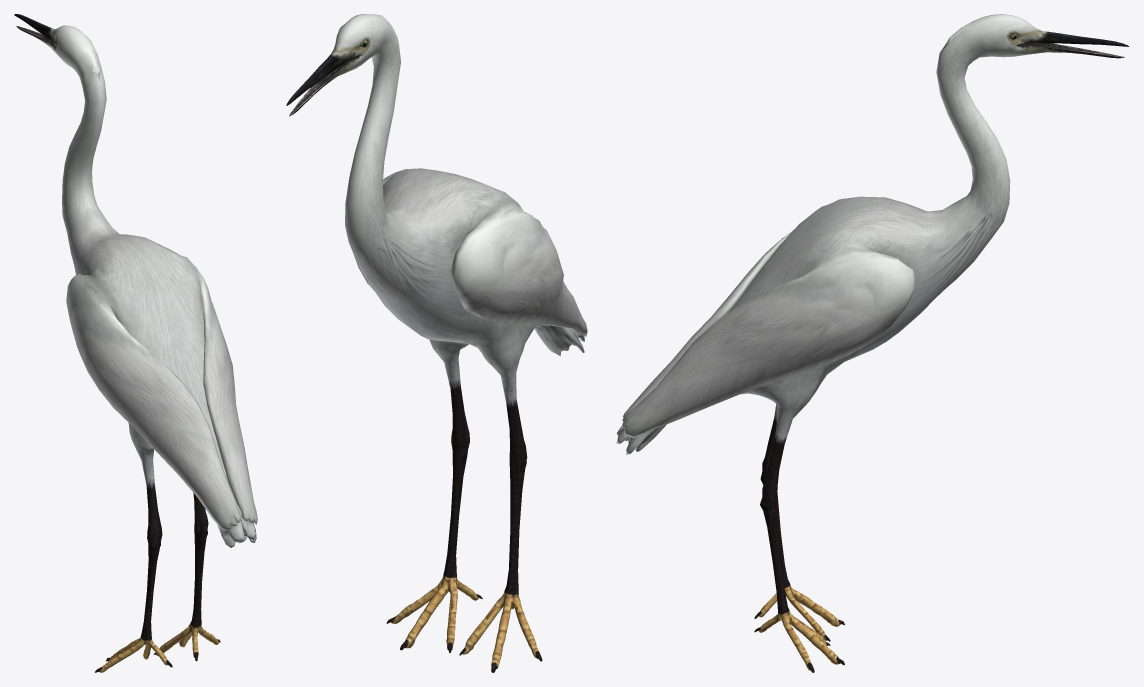
Rendered from WhiteBird_.fbx.
3 views of the same model, side by side, from view 1: azimuth 30°, elevation 25°; view 2: azimuth 150°, elevation 25°; view 3: azimuth 270°, elevation 25° (orthographic). The views are drawn at different scales.
Visible parts, largest first — view 1: WhiteBird; view 2: WhiteBird; view 3: WhiteBird.
Part boxes in pixels (x1,y1,x2,y2): WhiteBird: [14, 14, 257, 672]; WhiteBird: [286, 14, 587, 672]; WhiteBird: [616, 14, 1128, 672].
Size of the model in its own units: 702 by 2929 by 2160.
